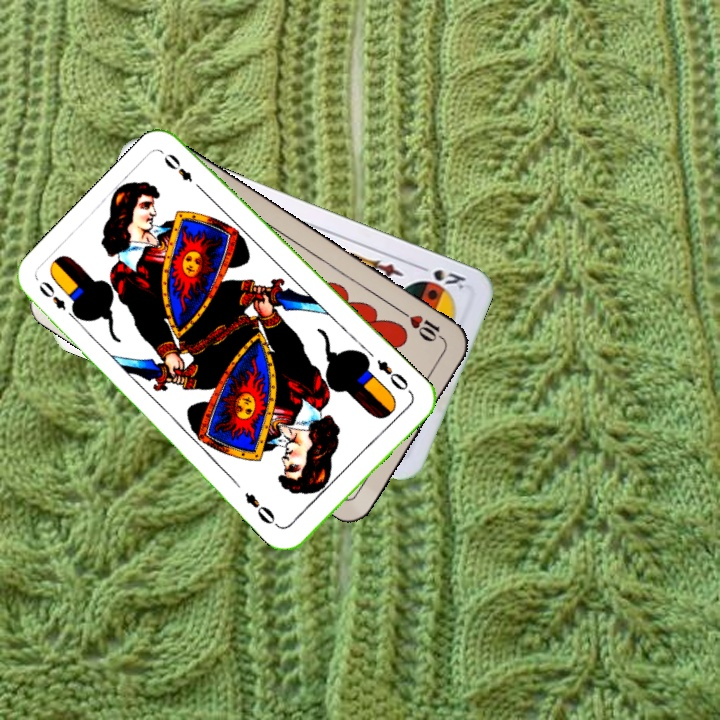EO: (372, 355, 411, 394), (34, 277, 69, 314)
H10: (397, 306, 449, 346)
SK: (413, 261, 469, 292)
